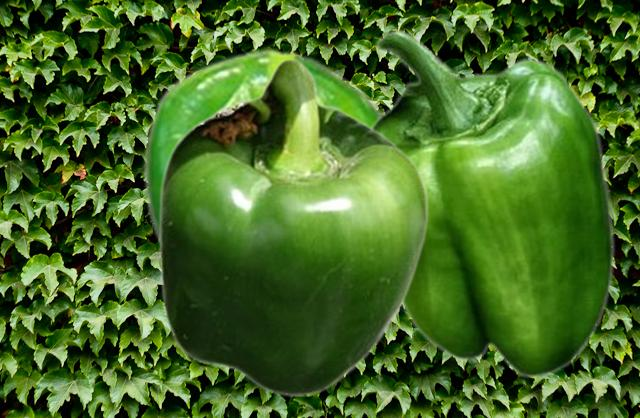bell_pepper: (157, 57, 428, 397), (370, 29, 615, 378), (141, 47, 384, 248)
